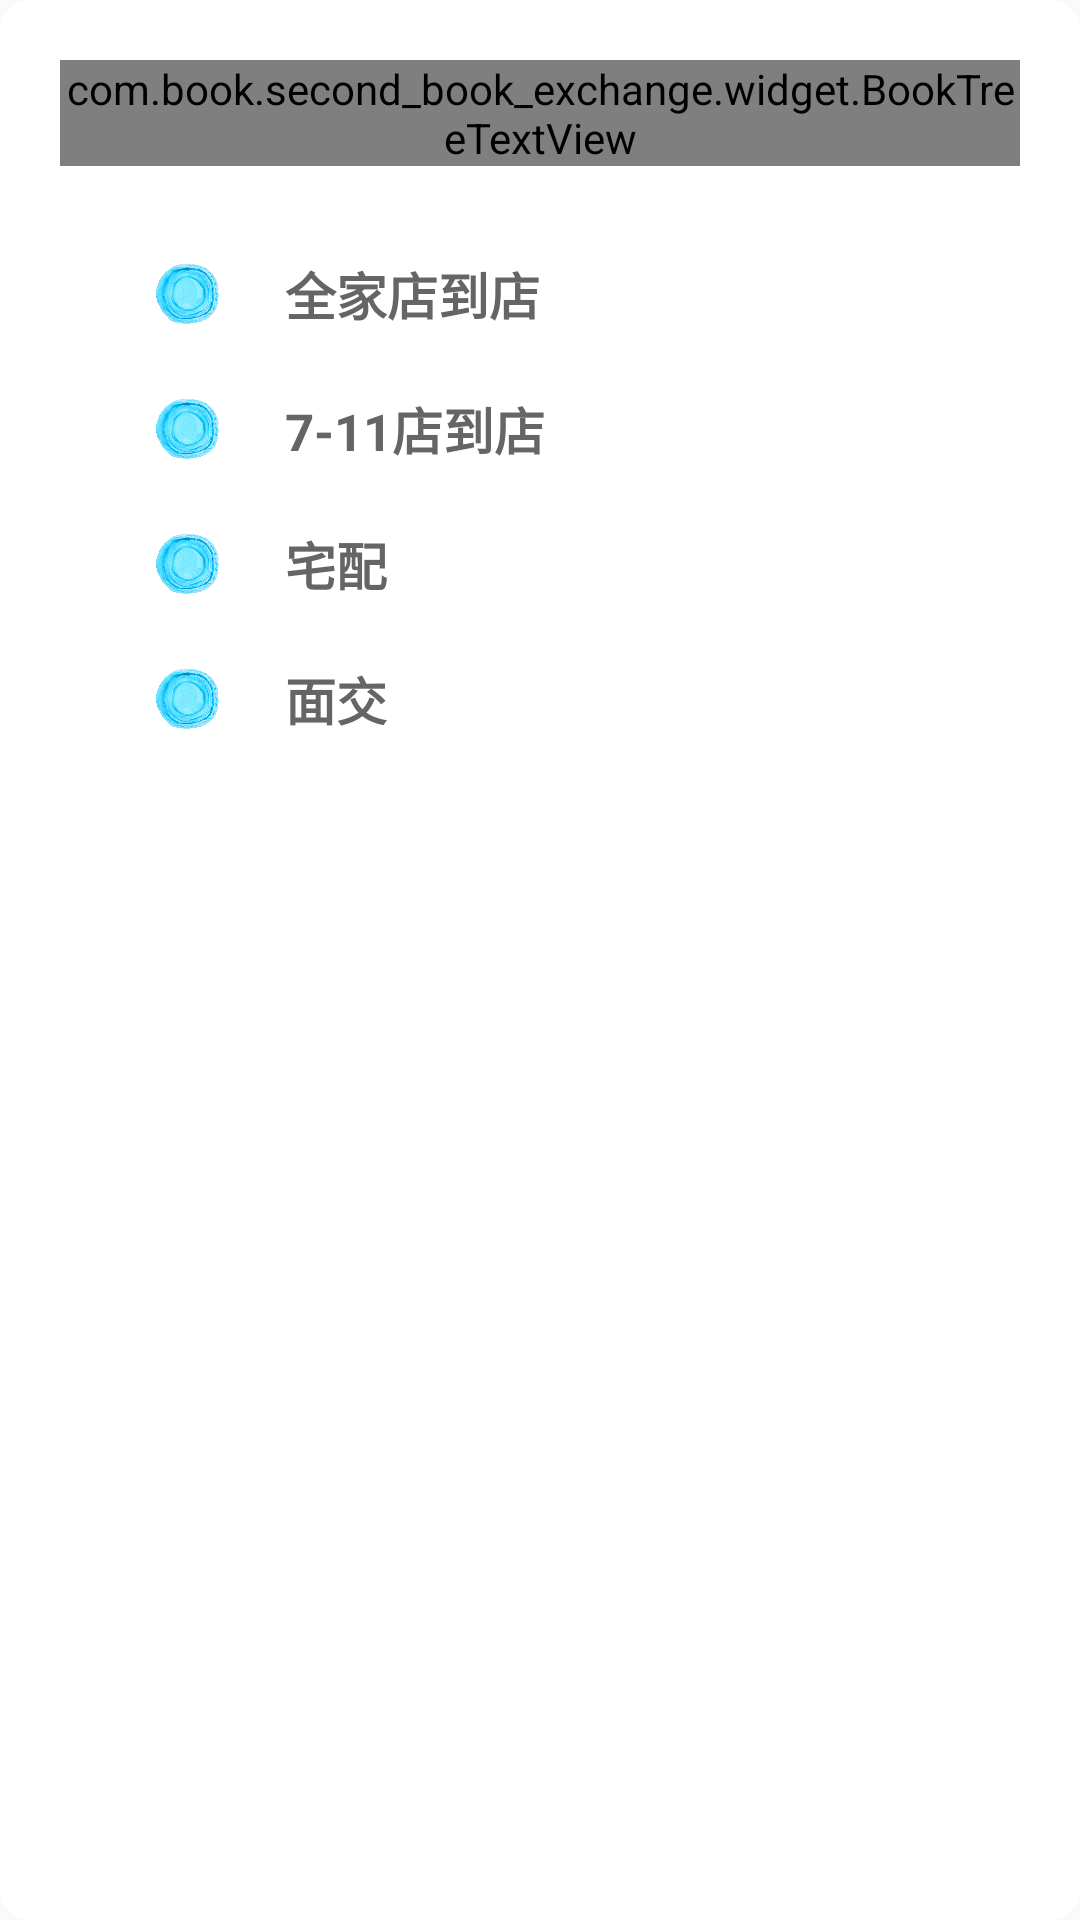

Point at icon controls on the screen. Image size 1080*1920, points as (x=x, y=y).
bluedot: (x=187, y=294), (x=187, y=429), (x=187, y=564), (x=187, y=699)
